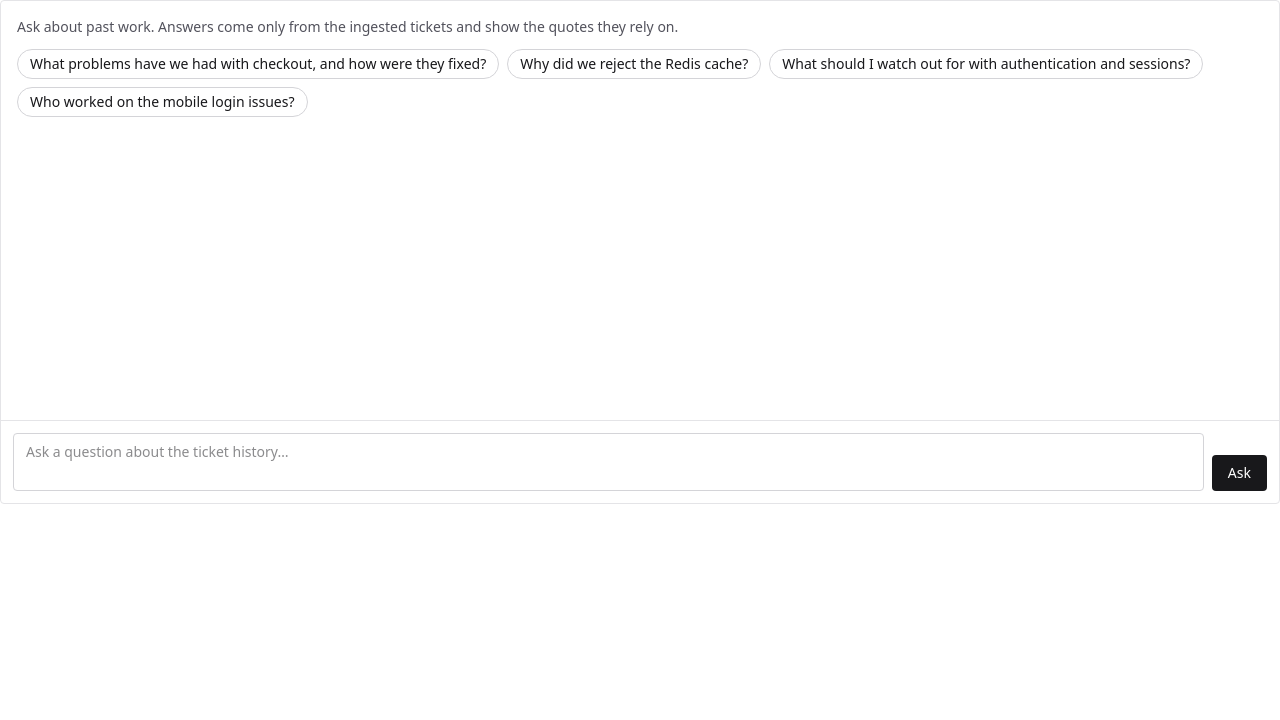
it: Chat › shows an error and keeps the question when the request fails
Type "will fail" into the text box named "Your question". click: (608, 462)
box: [13,433,1204,491]
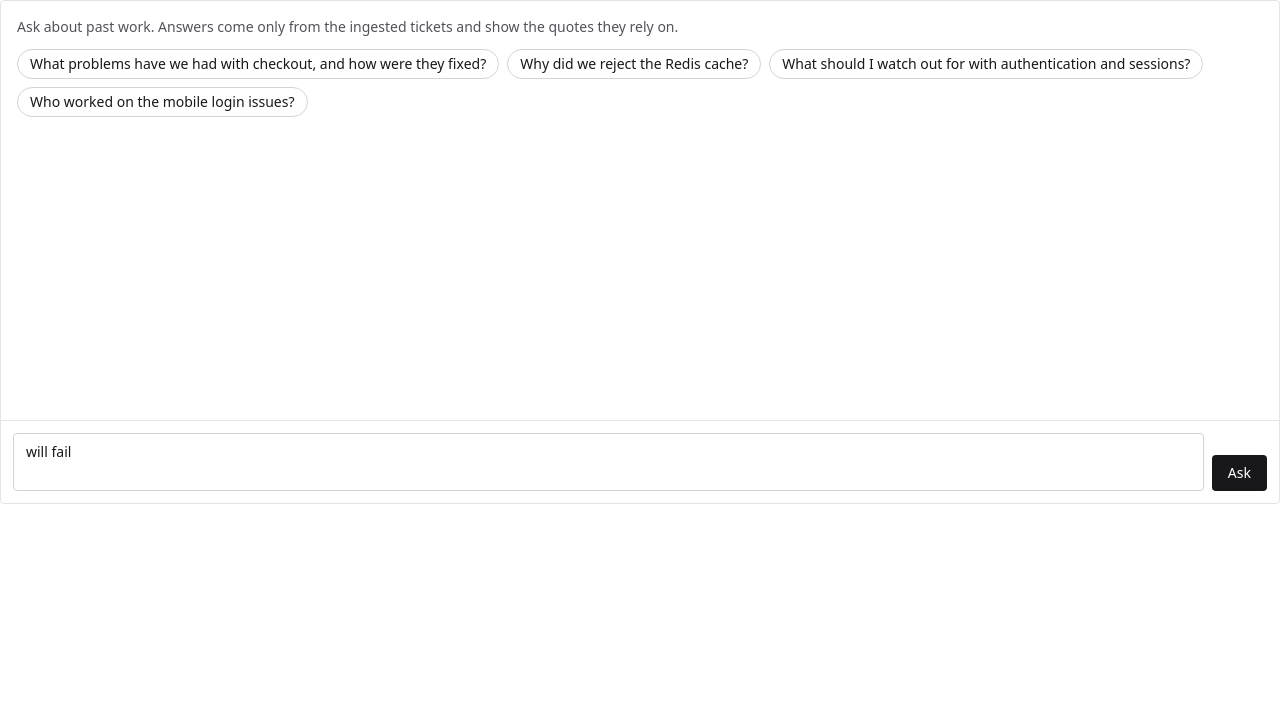
Click the button "Ask". click: (1239, 473)
box: [1212,455,1267,491]
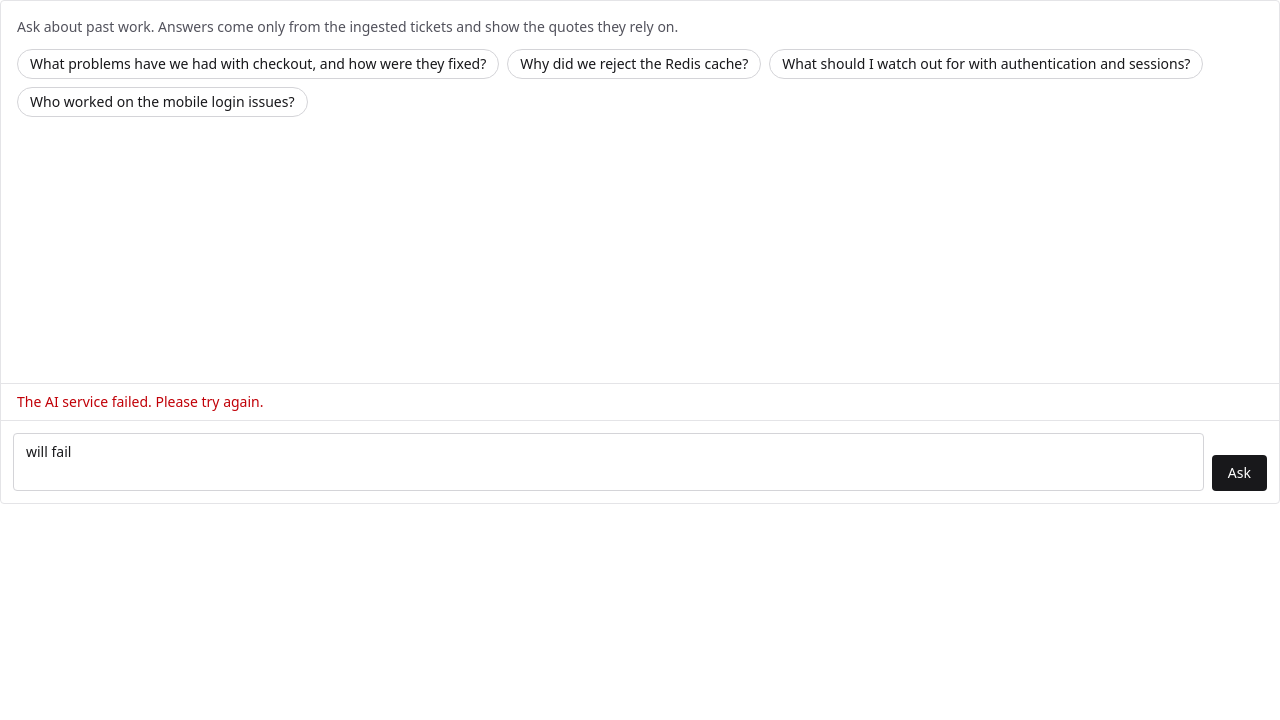
expect the text "The AI service failed. Please try again." is shown: met, box [1,383,1279,420]
